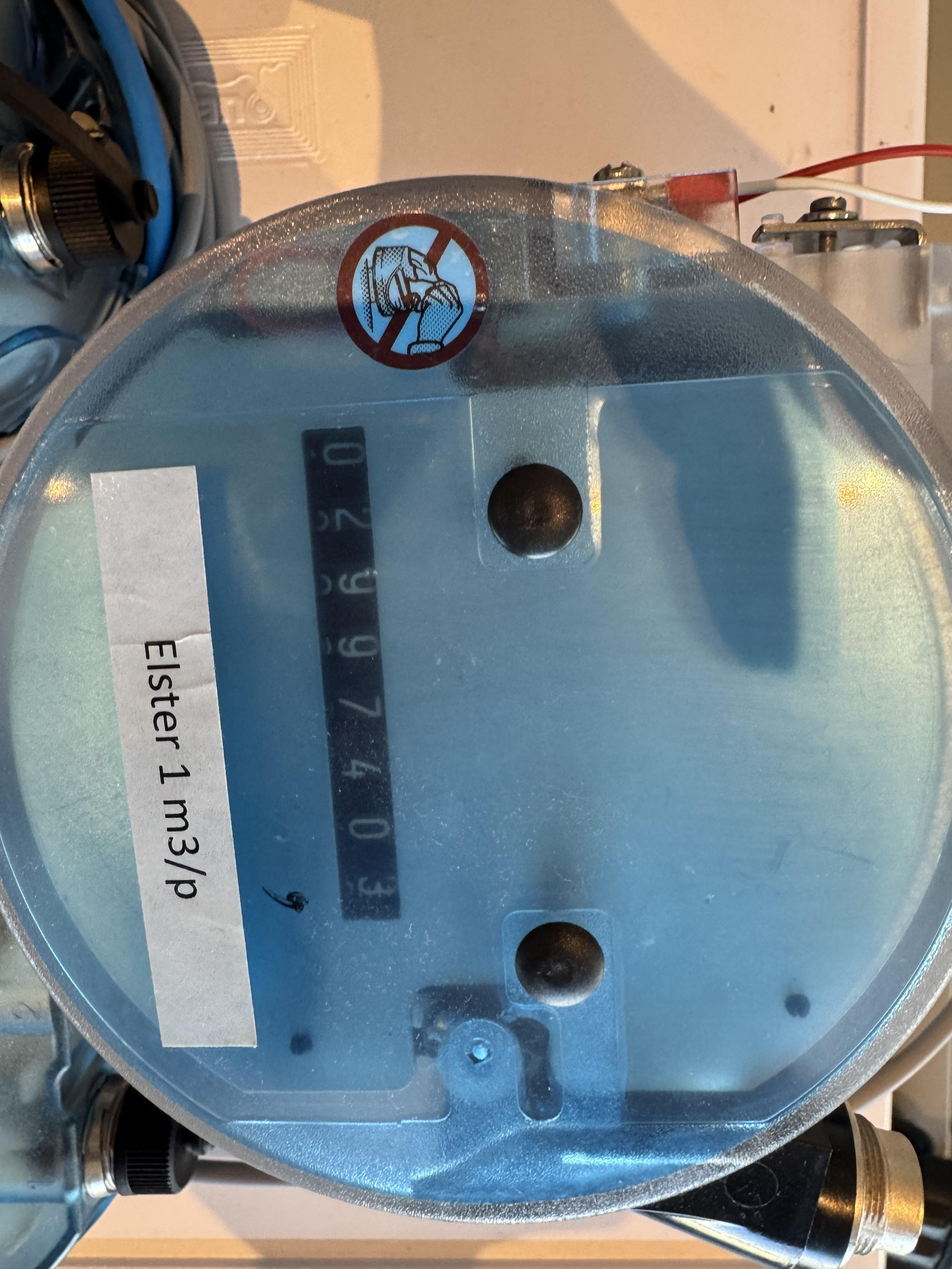analog_dial: (250, 419, 409, 934)
